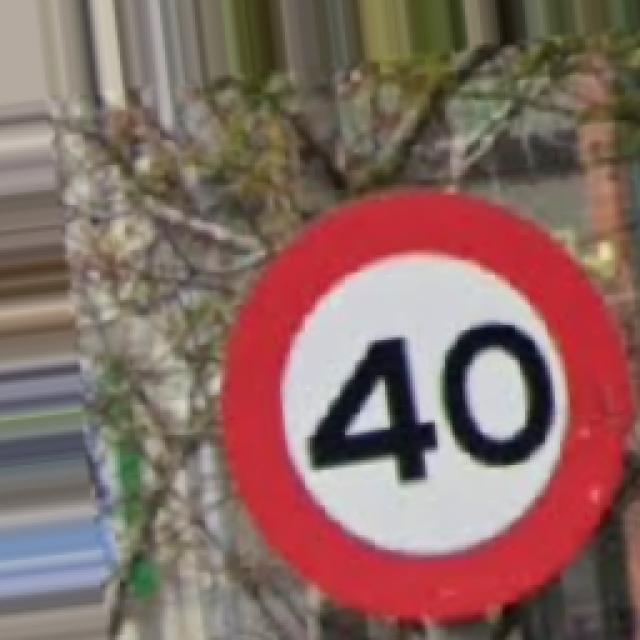Speed Limit -40-: (225, 190, 630, 620)
